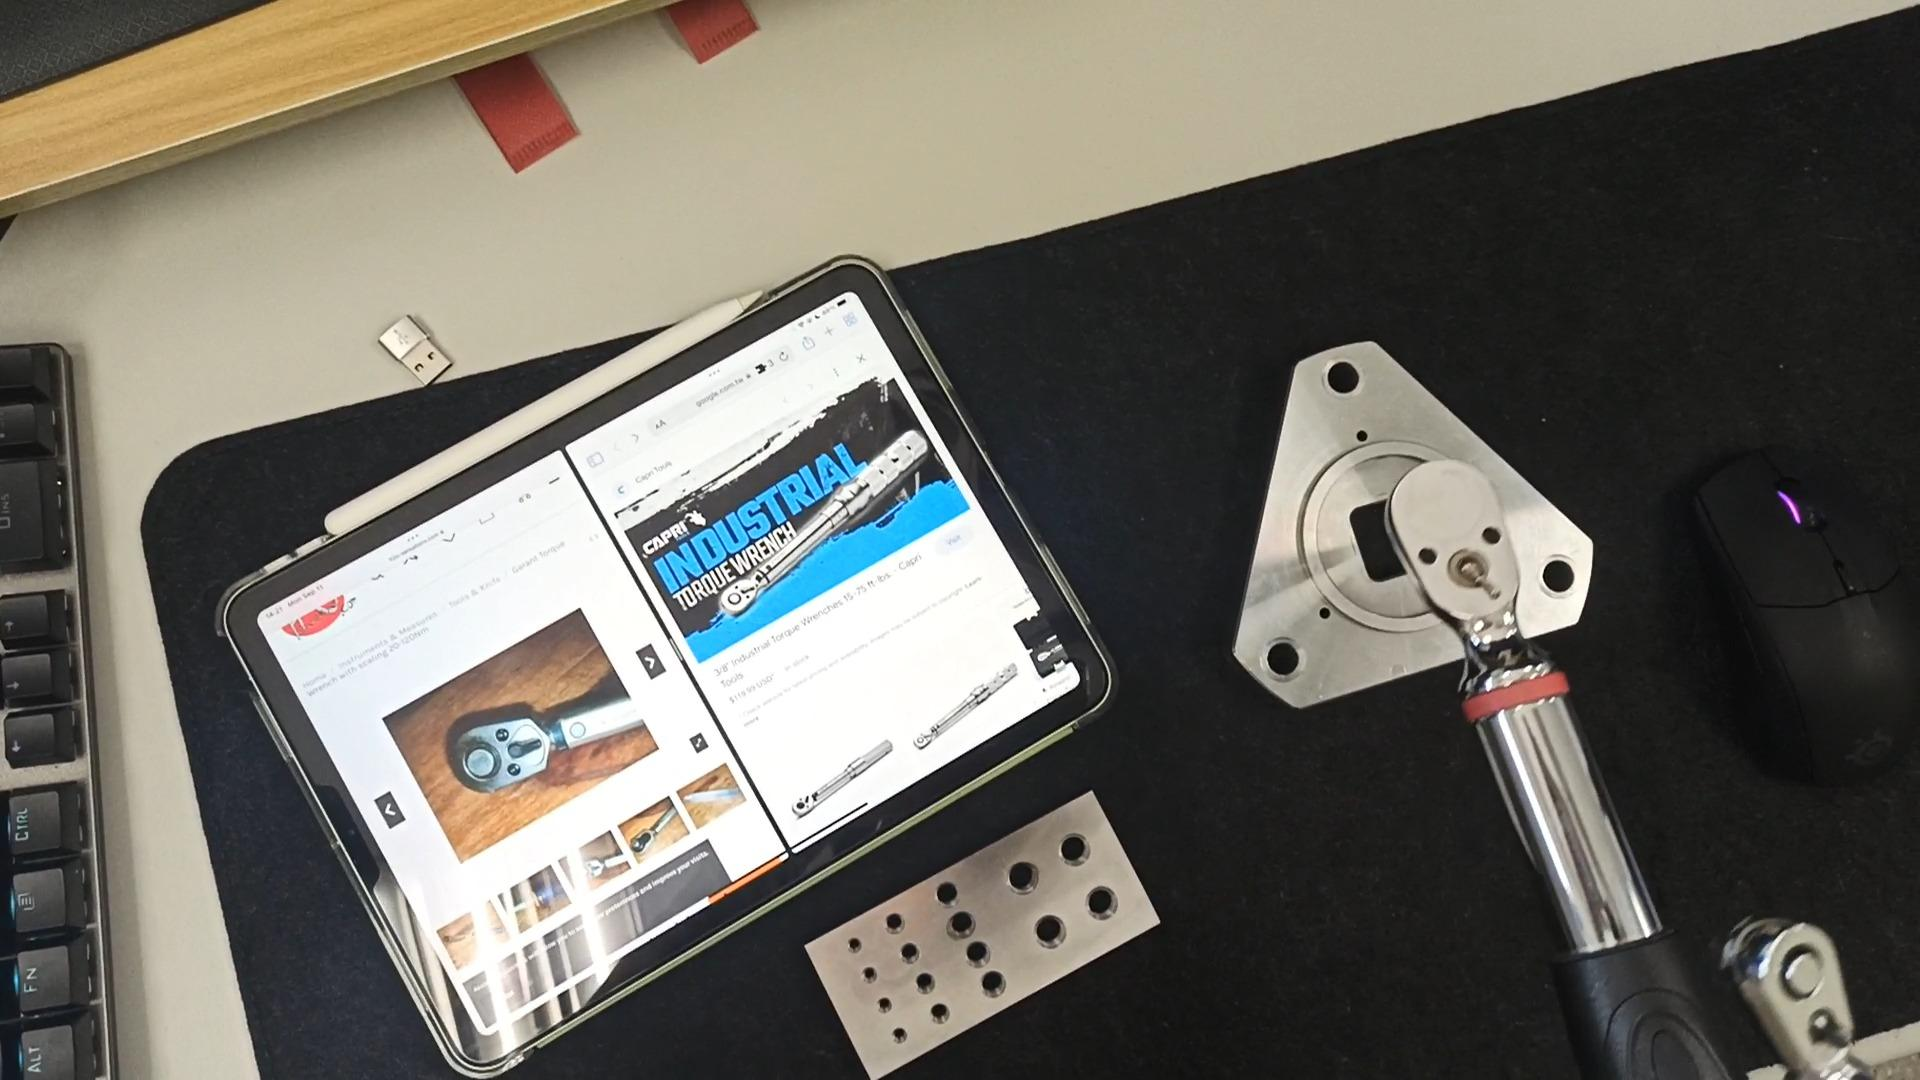Tool: (1382, 448, 1543, 675), (1713, 913, 1861, 1080), (438, 712, 558, 791), (711, 575, 766, 621)
hole: (1527, 550, 1594, 599), (1251, 644, 1319, 690), (1039, 829, 1106, 872), (1071, 886, 1135, 930), (986, 860, 1050, 899), (1313, 363, 1370, 405), (1017, 916, 1081, 953), (928, 914, 980, 944), (915, 880, 964, 909), (948, 943, 996, 969), (975, 975, 1019, 1002), (916, 1004, 956, 1026), (901, 975, 940, 997), (870, 914, 909, 936), (885, 943, 923, 964), (877, 1029, 913, 1048), (827, 935, 861, 955), (851, 969, 885, 988), (865, 997, 898, 1014)
